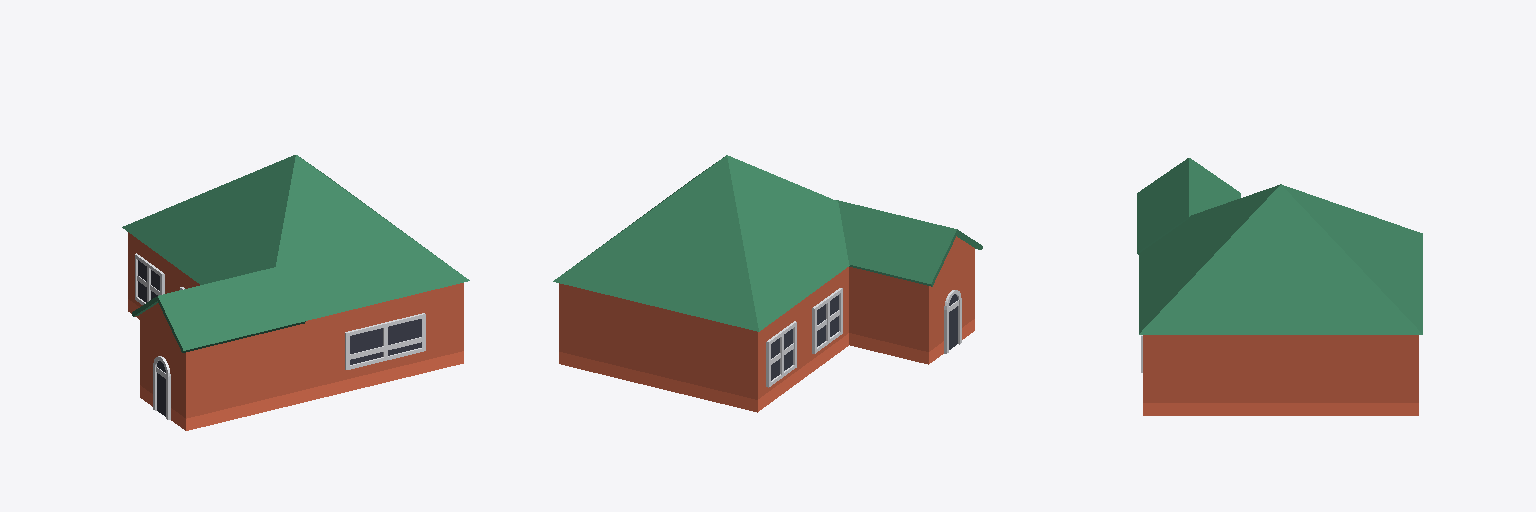
The picture shows the model from 3 angles: view 1: azimuth 30°, elevation 25°; view 2: azimuth 150°, elevation 25°; view 3: azimuth 270°, elevation 25°; orthographic projection.
Parts seen in each view (by area): view 1: roof_point_28, block_21, block_22, roof_25, window_width_33, window_wide_31, door_rounded_29; view 2: roof_point_28, block_21, block_22, roof_25, window_wide_31, window_wide_32, door_rounded_29; view 3: roof_point_28, block_21, roof_25.
Part boxes in pixels (x1,y1,x2,y2): roof_point_28: (122, 155, 469, 320); block_21: (128, 232, 463, 411); block_22: (140, 315, 265, 430); roof_25: (132, 266, 305, 352); window_width_33: (345, 313, 425, 369); window_wide_31: (135, 253, 164, 304); door_rounded_29: (153, 356, 170, 419); roof_point_28: (553, 155, 849, 331); block_21: (559, 267, 848, 412); block_22: (849, 248, 974, 364); roof_25: (836, 200, 982, 286); window_wide_31: (766, 321, 796, 387); window_wide_32: (812, 288, 842, 353); door_rounded_29: (944, 290, 961, 353); roof_point_28: (1139, 184, 1422, 334); block_21: (1143, 335, 1418, 415); roof_25: (1137, 158, 1240, 254).
Size of the model in its own units: 3.62 by 2.2 by 3.12.